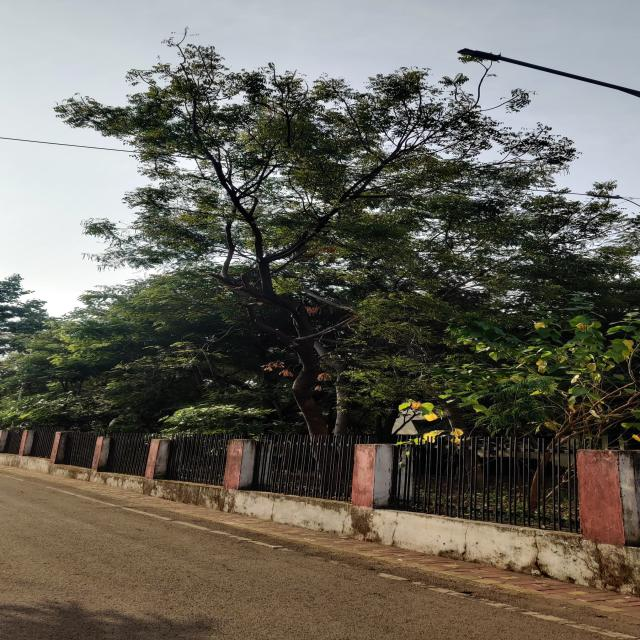Neem Tree: (146, 76, 492, 389)
